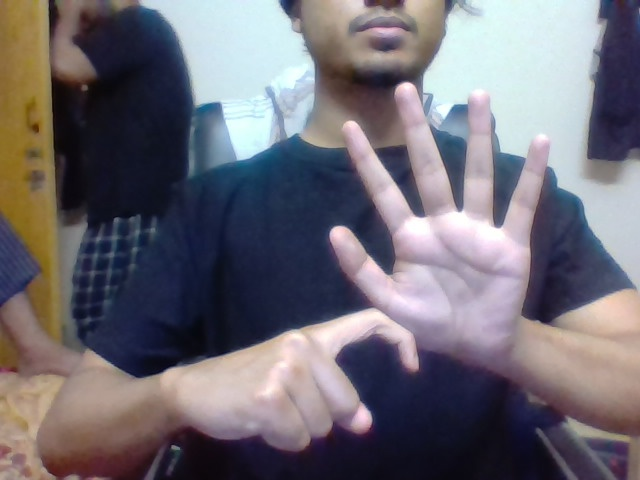R: (302, 299, 425, 438)
